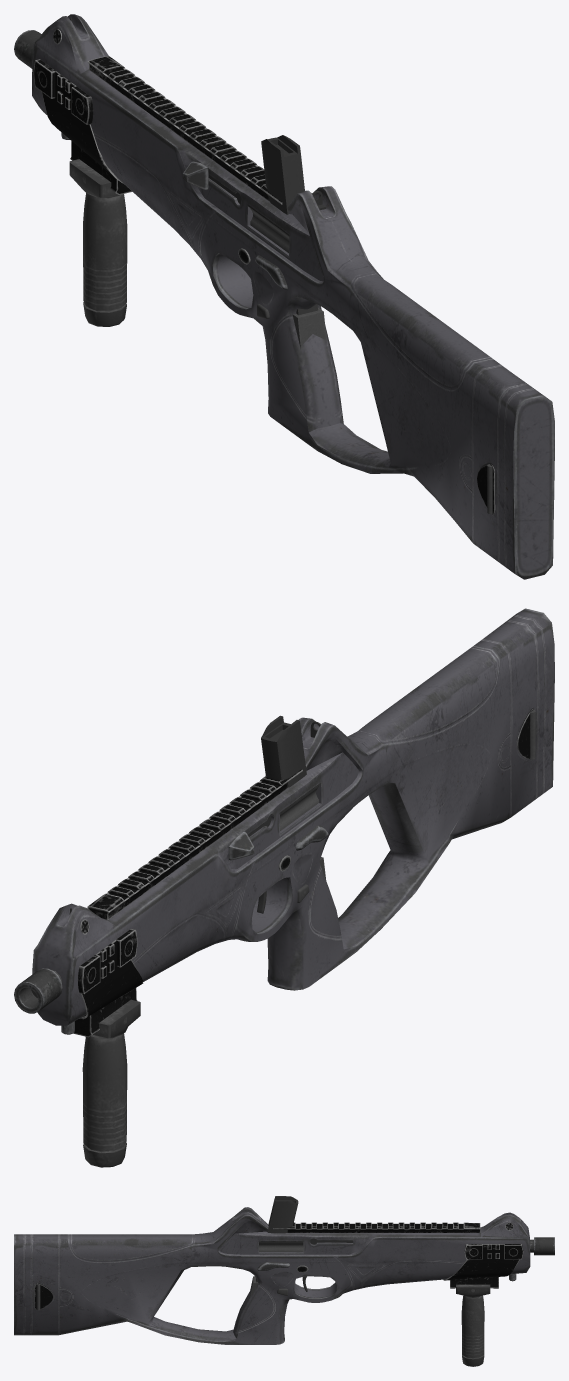
3 renders of one model, top to bottom at view 1: azimuth 30°, elevation 25°; view 2: azimuth 150°, elevation 25°; view 3: azimuth 270°, elevation 25°, orthographic. The views are drawn at different scales.
Visible parts, largest first — view 1: Body, Magazine; view 2: Body, Magazine; view 3: Body, Magazine.
Part boxes in pixels (box(x1,y1,x2,y2)): Body: box(14, 14, 554, 579); Magazine: box(261, 135, 326, 348); Body: box(14, 608, 554, 1167); Magazine: box(261, 715, 326, 880); Body: box(14, 1207, 554, 1366); Magazine: box(250, 1196, 298, 1297).
Size of the model in its own units: 0.0658 by 0.3312 by 0.9881.
Materials: 1 (1 with a texture image).
